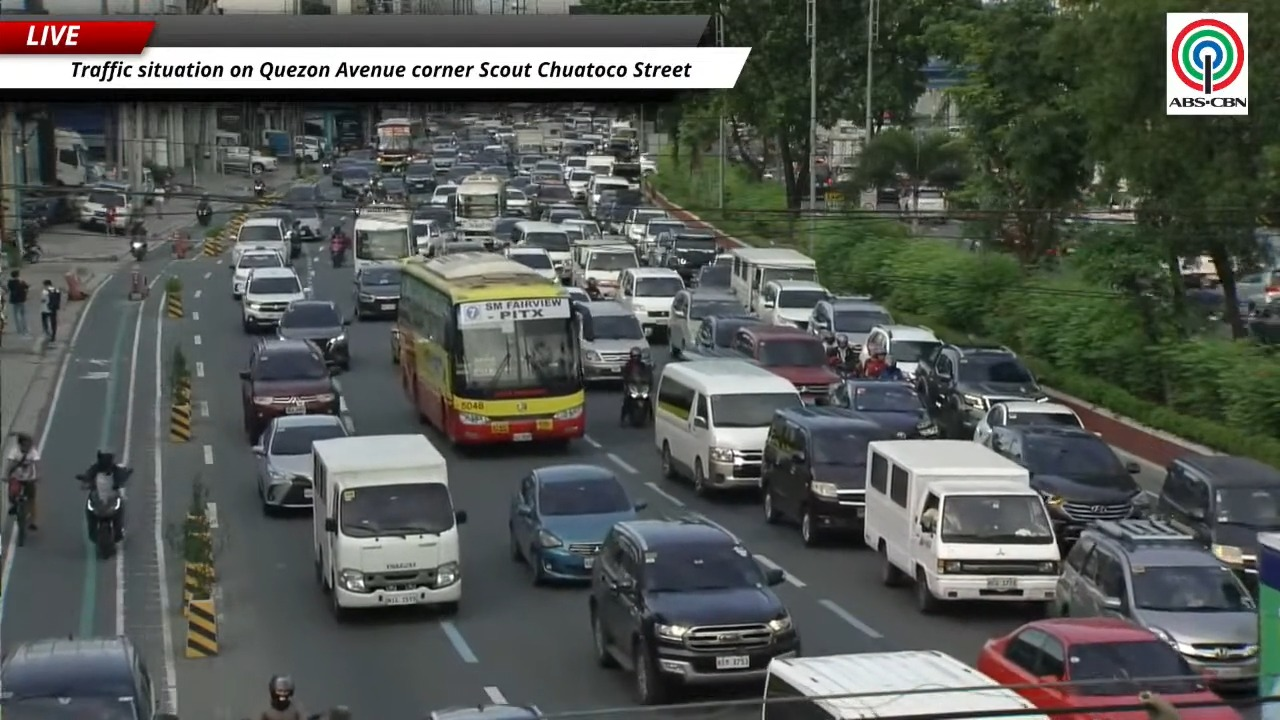bus: (396, 252, 585, 445), (353, 204, 416, 272), (454, 174, 505, 240), (374, 118, 425, 171)
car: (588, 518, 800, 704), (1050, 519, 1259, 687), (977, 617, 1239, 719), (984, 425, 1144, 541), (761, 407, 894, 545), (1155, 453, 1279, 588), (508, 464, 644, 584), (0, 636, 176, 719), (914, 343, 1047, 438), (240, 338, 339, 443), (253, 414, 349, 514), (827, 380, 939, 438), (574, 300, 650, 380), (277, 299, 350, 370), (668, 288, 741, 356), (806, 296, 892, 349), (974, 401, 1083, 442), (618, 268, 684, 335), (673, 308, 759, 358), (859, 324, 940, 377), (240, 267, 305, 332), (759, 280, 831, 328), (231, 216, 290, 264), (232, 250, 285, 299), (353, 264, 400, 319), (636, 217, 688, 262), (428, 703, 543, 719), (505, 247, 558, 281), (622, 207, 668, 243), (530, 178, 572, 212), (291, 204, 325, 241), (403, 161, 436, 195), (693, 262, 731, 290), (342, 164, 373, 197), (566, 168, 593, 203), (280, 184, 322, 206), (330, 156, 359, 186), (560, 218, 602, 238), (504, 186, 531, 217), (379, 176, 408, 201), (429, 183, 456, 206), (389, 325, 400, 363), (565, 287, 591, 302)
motorcycle: (77, 468, 131, 559), (8, 480, 29, 546), (624, 383, 651, 427), (22, 241, 43, 263), (130, 239, 147, 261), (330, 245, 345, 268), (196, 205, 212, 226), (253, 180, 265, 197), (321, 159, 331, 174)
truck: (313, 435, 465, 618), (681, 324, 840, 402), (670, 315, 759, 359), (219, 146, 278, 174), (262, 129, 292, 157), (514, 128, 543, 154)
